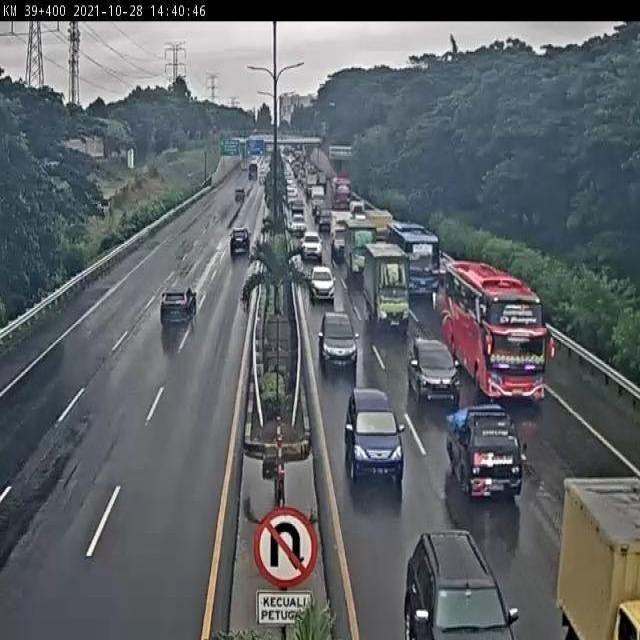big bus: (445, 260, 547, 401), (384, 219, 437, 296)
car: (447, 401, 525, 504), (344, 387, 406, 482), (407, 335, 461, 401), (318, 311, 359, 369), (309, 263, 337, 304), (228, 224, 251, 255)
mid truck: (363, 241, 412, 331), (160, 285, 198, 328)
